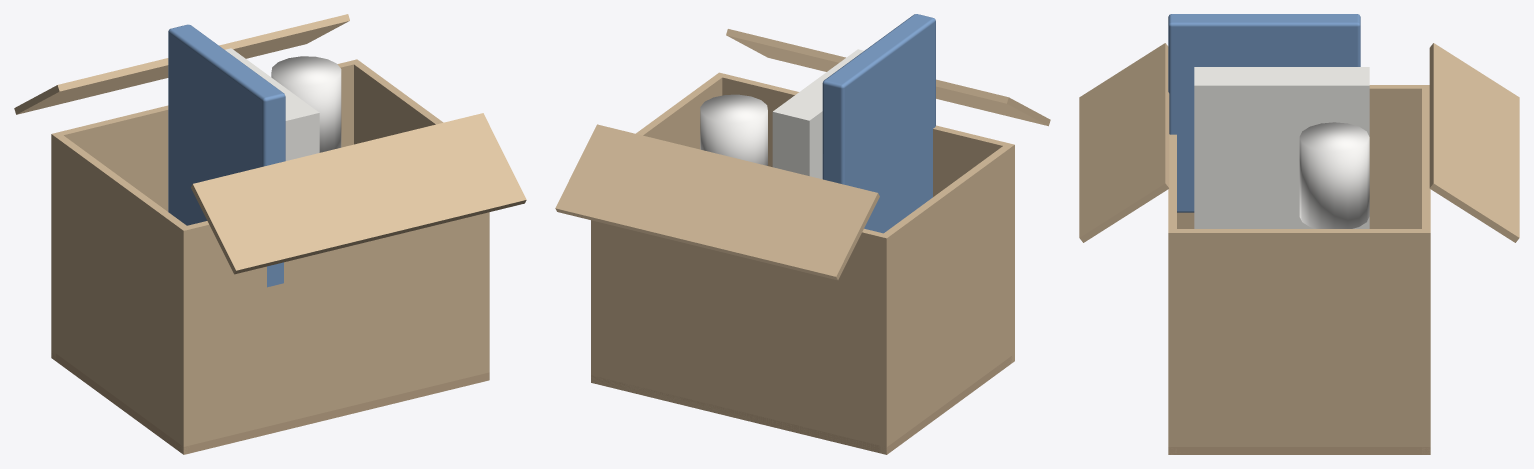
File: escena.casa.caja_pega.fbx
3 views of the same model, side by side, from view 1: azimuth 30°, elevation 25°; view 2: azimuth 150°, elevation 25°; view 3: azimuth 270°, elevation 25° (orthographic). The views are drawn at different scales.
Parts seen in each view (by area): view 1: Lado.003, Lado.001, Solapa.001, Carpeta, Lado.002, Lado, Solapa, Taza, Fondo, Papeles; view 2: Lado.002, Lado.001, Solapa, Carpeta, Lado.003, Papeles, Taza, Solapa.001, Fondo, Lado; view 3: Lado, Papeles, Solapa, Solapa.001, Carpeta, Lado.001, Taza, Lado.002, Lado.003, Fondo.
Boxes of the visible parts, bbox=[...] form: Lado.003: bbox=[179, 214, 481, 454]; Lado.001: bbox=[52, 132, 191, 454]; Solapa.001: bbox=[191, 113, 526, 274]; Carpeta: bbox=[168, 24, 285, 287]; Lado.002: bbox=[51, 59, 360, 360]; Lado: bbox=[350, 59, 489, 373]; Solapa: bbox=[14, 14, 349, 114]; Taza: bbox=[271, 56, 341, 152]; Fondo: bbox=[51, 351, 489, 454]; Papeles: bbox=[225, 48, 319, 160]; Lado.002: bbox=[591, 220, 890, 452]; Lado.001: bbox=[879, 143, 1014, 454]; Solapa: bbox=[555, 124, 879, 280]; Carpeta: bbox=[822, 14, 935, 233]; Lado.003: bbox=[716, 73, 1014, 363]; Papeles: bbox=[772, 49, 863, 179]; Taza: bbox=[700, 94, 767, 165]; Solapa.001: bbox=[726, 29, 1050, 126]; Fondo: bbox=[591, 356, 1012, 454]; Lado: bbox=[591, 72, 725, 371]; Lado: bbox=[1168, 229, 1430, 452]; Papeles: bbox=[1194, 67, 1369, 228]; Solapa: bbox=[1429, 43, 1519, 242]; Solapa.001: bbox=[1079, 43, 1169, 242]; Carpeta: bbox=[1168, 14, 1360, 212]; Lado.001: bbox=[1177, 85, 1429, 228]; Taza: bbox=[1299, 122, 1369, 228]; Lado.002: bbox=[1422, 85, 1430, 454]; Lado.003: bbox=[1168, 134, 1176, 454]; Fondo: bbox=[1168, 447, 1430, 454].
Size of the model in its own units: 0.4 by 0.42 by 0.5029.
